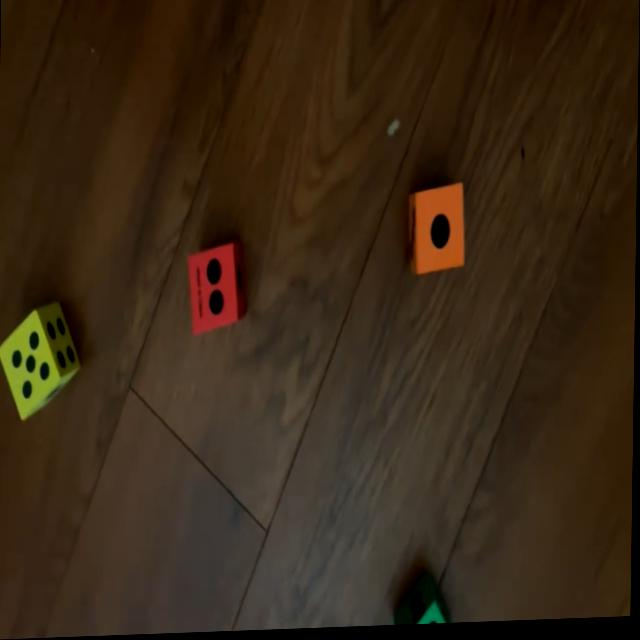cube: (187, 244, 248, 335), (395, 578, 453, 628)
